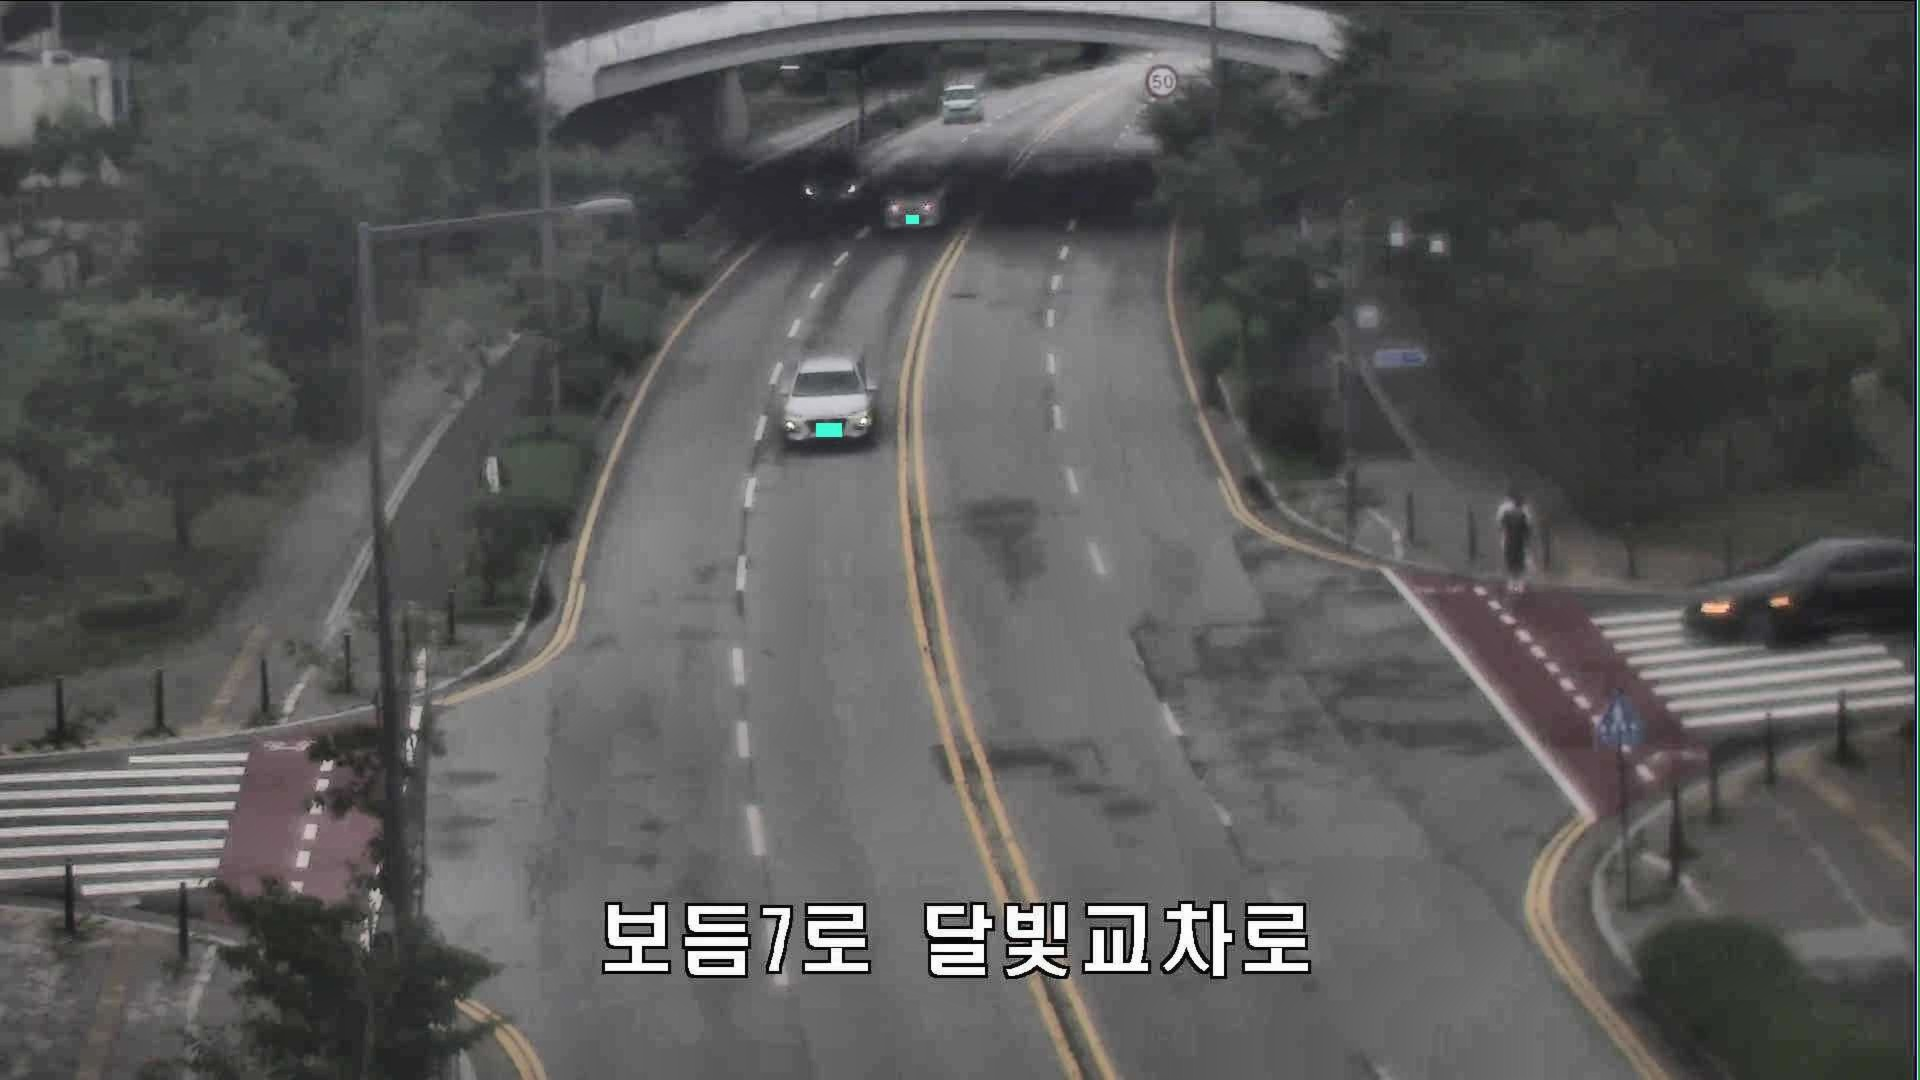crosswalk: (1501, 489, 1535, 600)
